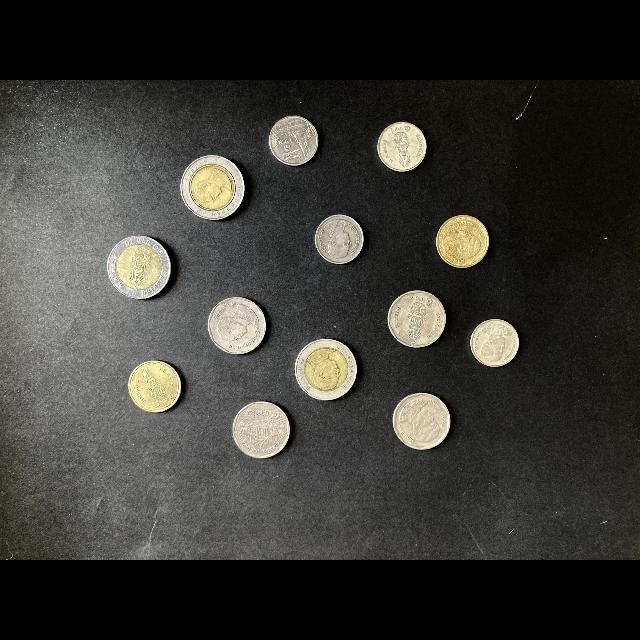1 Bath: (314, 213, 368, 268), (267, 114, 321, 169), (376, 120, 429, 174), (471, 317, 523, 371)
10 Bath: (106, 231, 177, 305), (179, 153, 248, 224), (296, 337, 361, 404)
2 Bath: (125, 357, 187, 417), (437, 213, 492, 272)
5 Bath: (385, 287, 451, 352), (204, 297, 273, 358), (392, 392, 455, 456), (232, 400, 296, 463)
